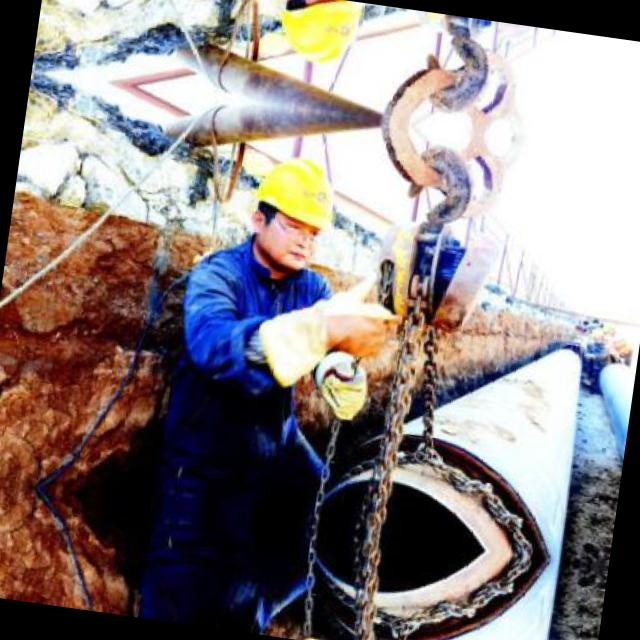helmet: (235, 140, 346, 283), (262, 0, 367, 80)
